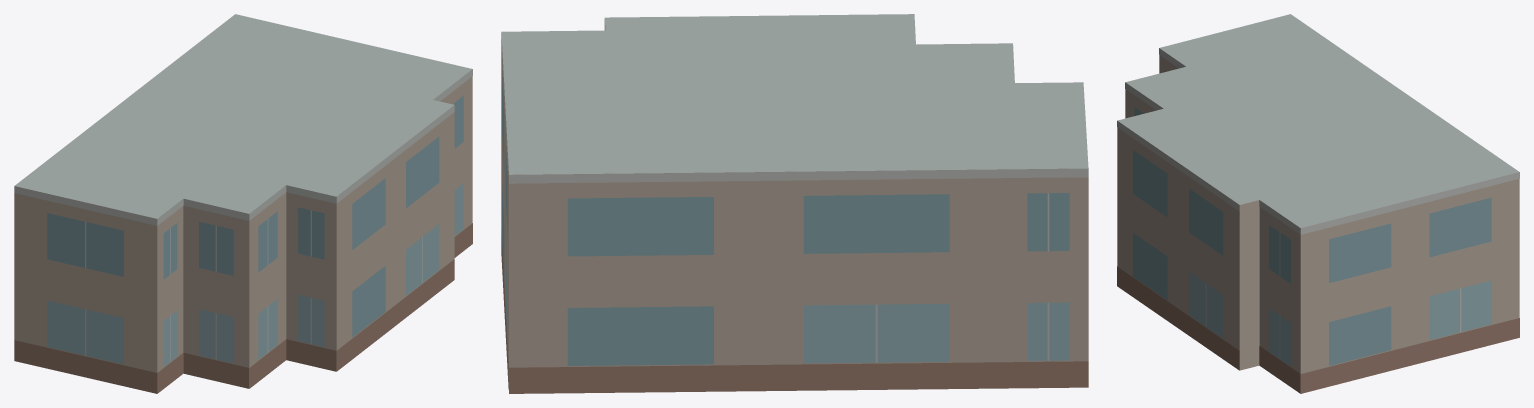
Rendered from survey-upis-32681785.glb.
3 views of the same model, side by side, from view 1: azimuth 30°, elevation 25°; view 2: azimuth 150°, elevation 25°; view 3: azimuth 270°, elevation 25° (orthographic). The views are drawn at different scales.
Parts seen in each view (by area): view 1: survey-upis-32681785.tmp; view 2: survey-upis-32681785.tmp; view 3: survey-upis-32681785.tmp.
Part boxes in pixels (<box>): survey-upis-32681785.tmp: <box>14,14,472,393</box>; survey-upis-32681785.tmp: <box>501,14,1088,393</box>; survey-upis-32681785.tmp: <box>1117,14,1519,393</box>.
Bounding box in the file's own units: 16.93 × 6.1 × 13.44.
